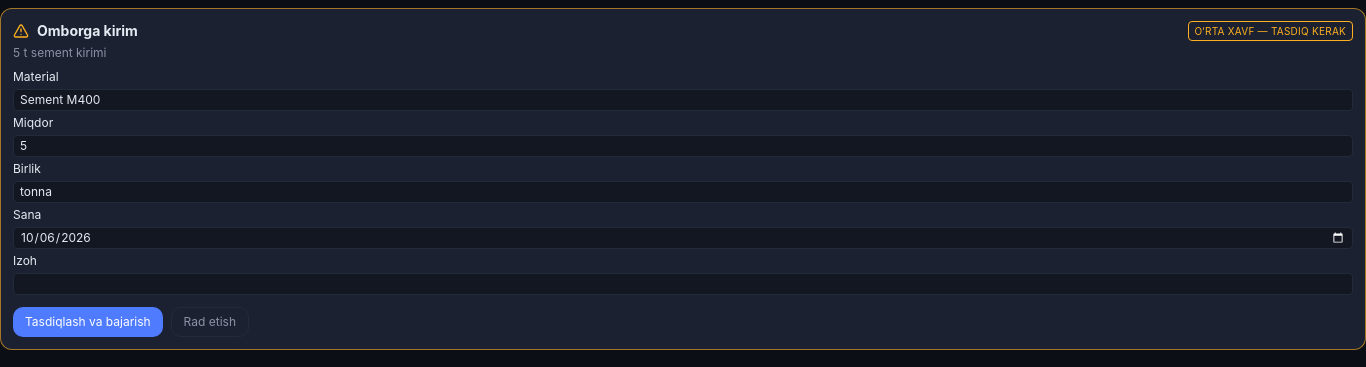
Test case: AiHarakatKarta — qaror foydalanuvchida › o‘rta xavf: qiymatlar ko‘rinadi va tahrirlanadi; tasdiq → qaror → bajarish → natija yoziladi
Expected: the text "O‘rta xavf — tasdiq kerak" is shown, [1188,21,1353,41]
Expected: the text "5 t sement kirimi" is shown, [13,45,106,60]
Replace the text in the number field named "Miqdor" with "6" at (683, 146), box [13,135,1353,157]
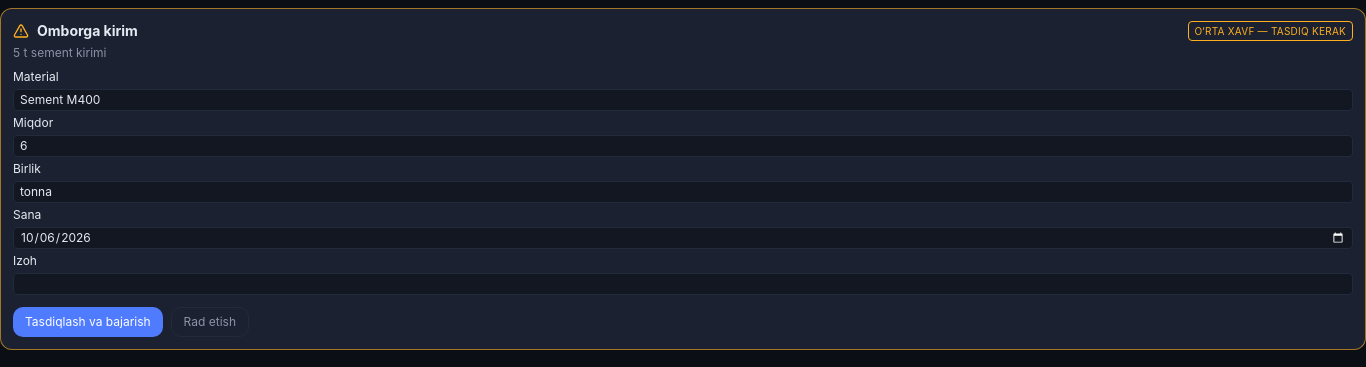
Click the button "Tasdiqlash va bajarish" at (88, 322), box [13,307,163,337]
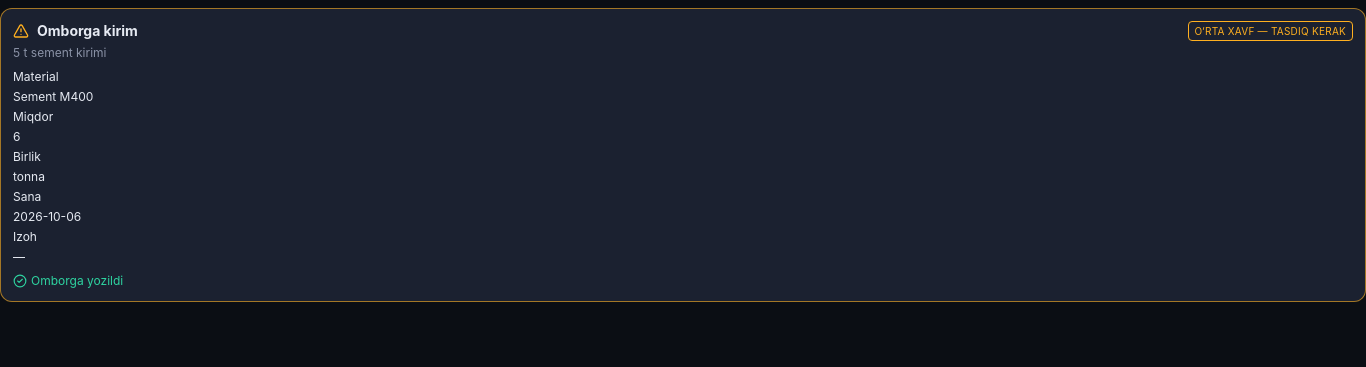
Expected: the text "Omborga yozildi" is shown, [13,273,123,288]
